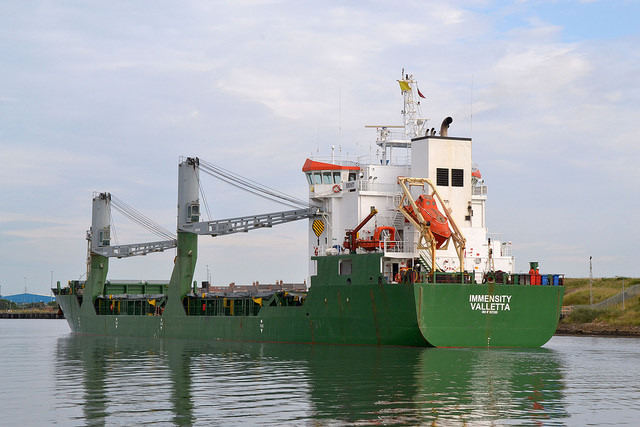bulk carrier: (54, 72, 564, 346)
